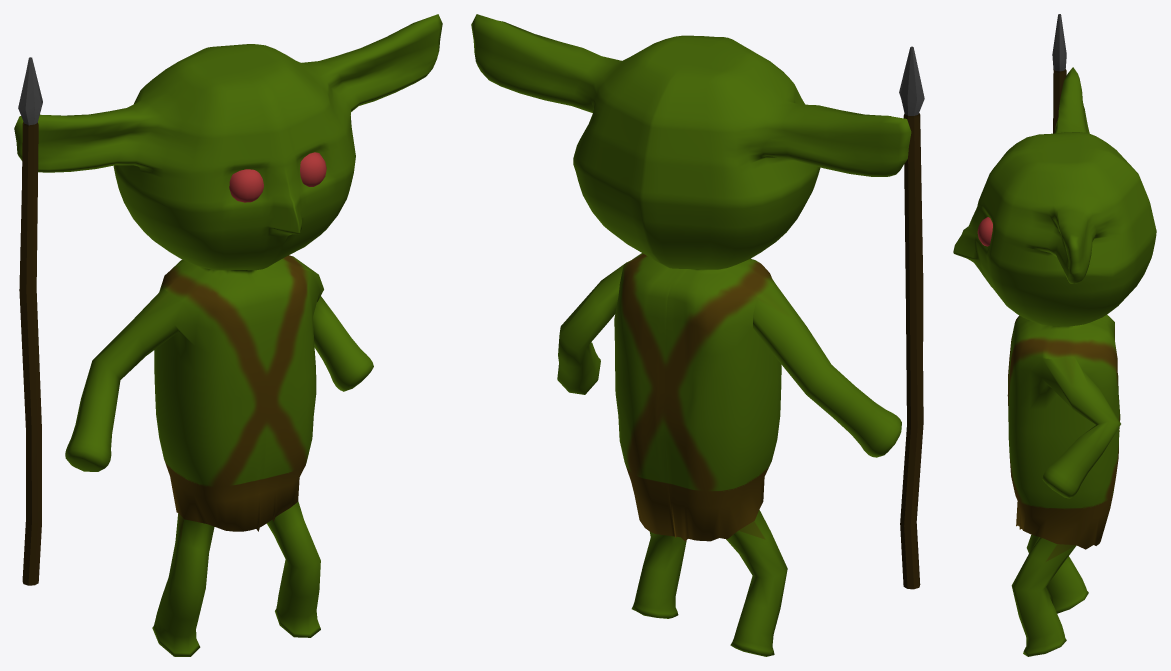
File: Goblin_Idle.fbx
The picture shows the model from 3 angles, left to right: view 1: azimuth 30°, elevation 25°; view 2: azimuth 150°, elevation 25°; view 3: azimuth 270°, elevation 25°; orthographic projection. The views are drawn at different scales.
Visible parts, largest first — view 1: Body, Spear, Right_Eye, Left_Eye; view 2: Body, Spear; view 3: Body, Spear, Left_Eye.
Part boxes in pixels (box(x1,y1,x2,y2)): Body: box(14, 14, 442, 656); Spear: box(18, 57, 42, 585); Right_Eye: box(229, 169, 263, 202); Left_Eye: box(300, 152, 326, 186); Body: box(471, 14, 911, 656); Spear: box(899, 46, 924, 589); Body: box(953, 67, 1156, 656); Spear: box(1052, 14, 1066, 133); Left_Eye: box(977, 217, 992, 246).
Bounding box in the file's own units: 2.49 × 3.46 × 1.19.
